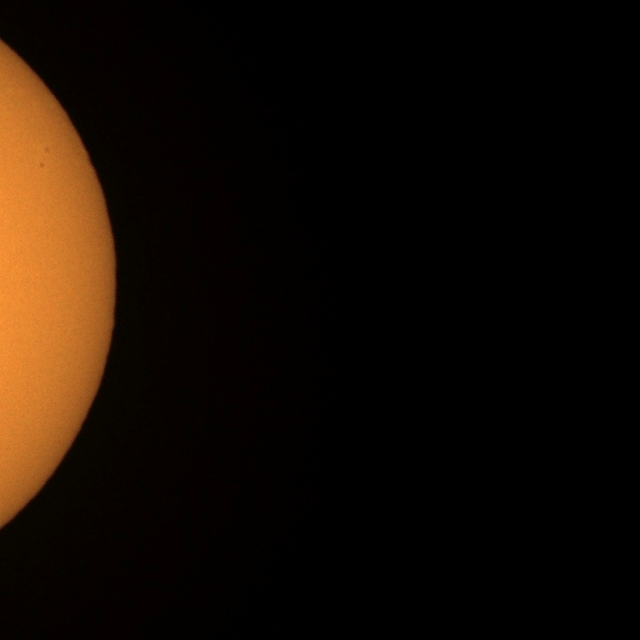sunspot: (44, 146, 51, 154), (39, 161, 45, 168)
